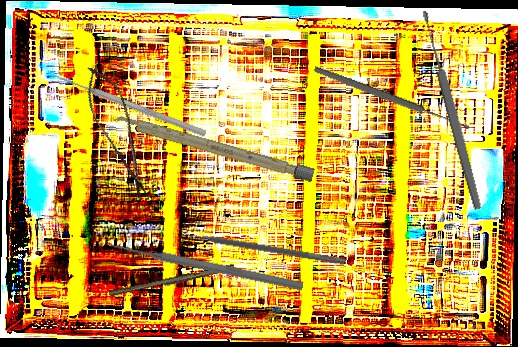Micro Scissor: (76, 59, 160, 203)
Pusher: (49, 69, 208, 139), (107, 238, 305, 293)
Scalpel Handle: (112, 111, 315, 183), (108, 261, 236, 301)
Spatula Surgical: (175, 224, 348, 266)
Surgical Spoon: (418, 8, 485, 212), (312, 64, 472, 133)
